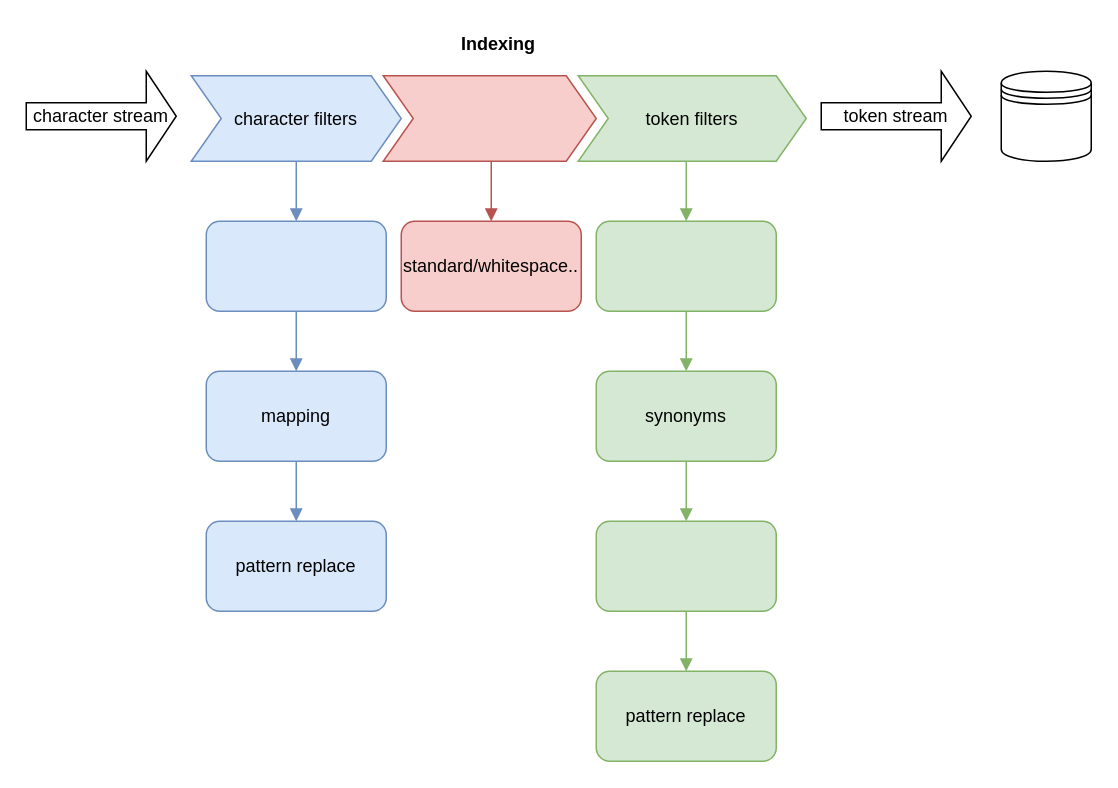
Some shapes in this 1118 by 788 pixel diagram are drawn without their labels. The shapes that lost their labels are listed below. From the top down, each one's centre as x and y in pixels, then its label:
(x=489, y=117): tokenizer
(x=1045, y=115): Lucene
(x=295, y=265): stripping
(x=685, y=265): stop words
(x=685, y=565): N-gram
